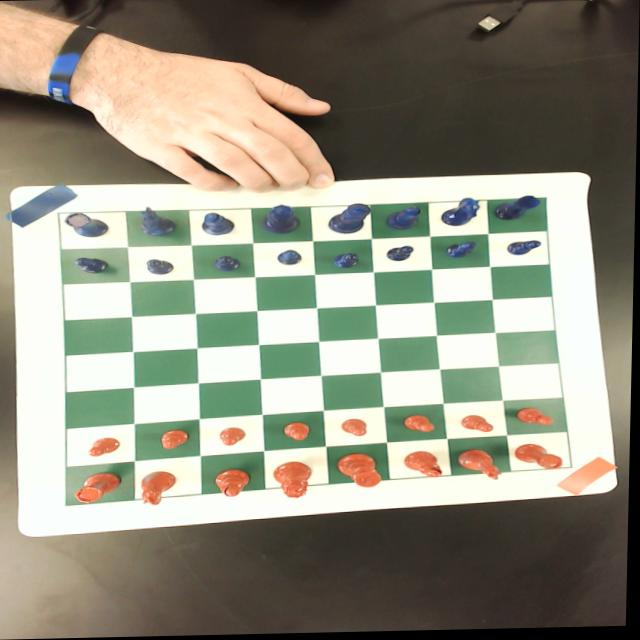B: (388, 207, 423, 231), (202, 212, 237, 236)
K: (329, 204, 372, 235)
N: (441, 197, 480, 228), (139, 206, 178, 236)
P: (75, 256, 110, 275), (507, 241, 545, 258), (146, 257, 177, 276), (446, 243, 479, 259), (385, 246, 416, 263), (214, 255, 243, 272), (334, 253, 362, 269), (279, 250, 305, 266)
Q: (262, 204, 302, 235)
R: (63, 211, 112, 238), (495, 196, 543, 223)
b: (215, 468, 254, 498), (405, 452, 445, 478)
k: (339, 452, 385, 489)
n: (460, 450, 506, 482), (143, 471, 180, 507)
p: (404, 414, 439, 435), (518, 409, 556, 428), (89, 436, 124, 456), (161, 429, 192, 450), (462, 416, 497, 434), (284, 422, 314, 442), (220, 427, 250, 447), (343, 418, 371, 438)
q: (274, 462, 315, 499)
r: (74, 471, 125, 504), (517, 444, 567, 473)
